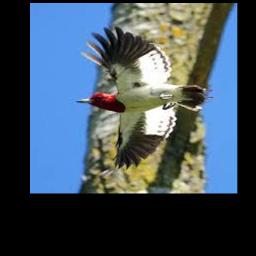Woodpecker: (76, 27, 212, 175)
